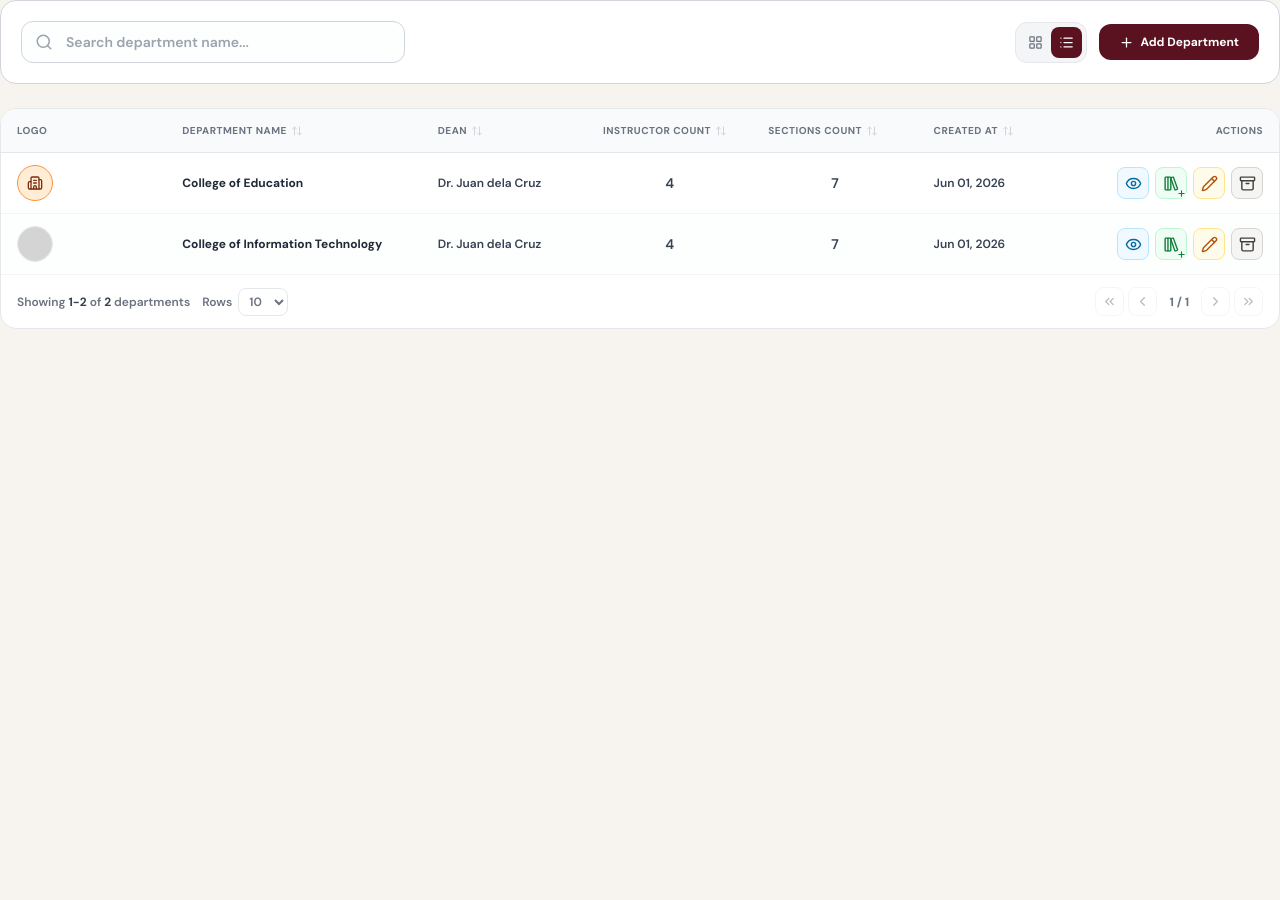
Test: Departments management takes a typed department code › blocks a code another department already uses
Click the button "Add Department". click: x=1179, y=42
box: [1099, 24, 1259, 60]
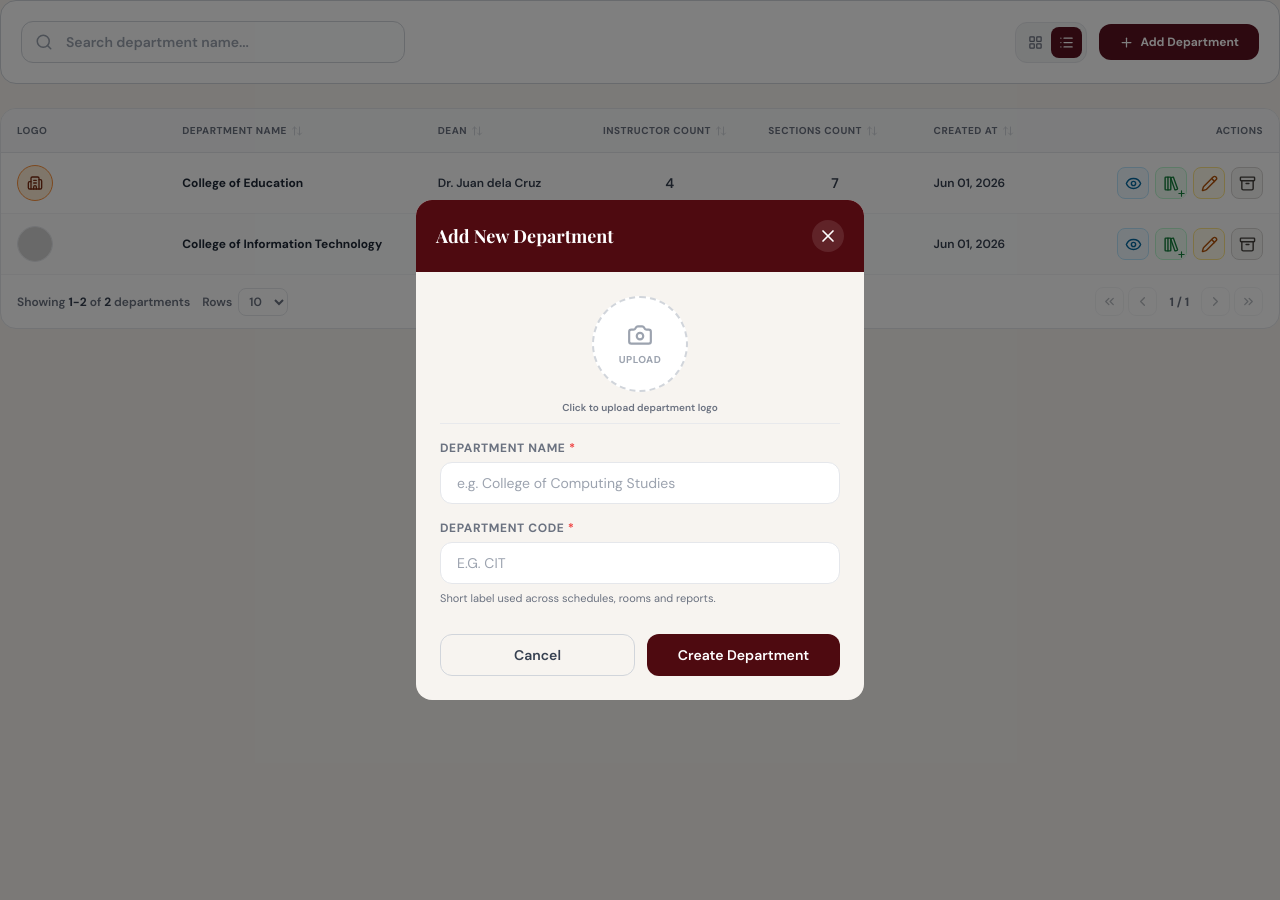
Type "College of Computing Studies" into the field with placeholder "e.g. College of Computing Studies". click: x=640, y=483
box: [440, 462, 840, 504]
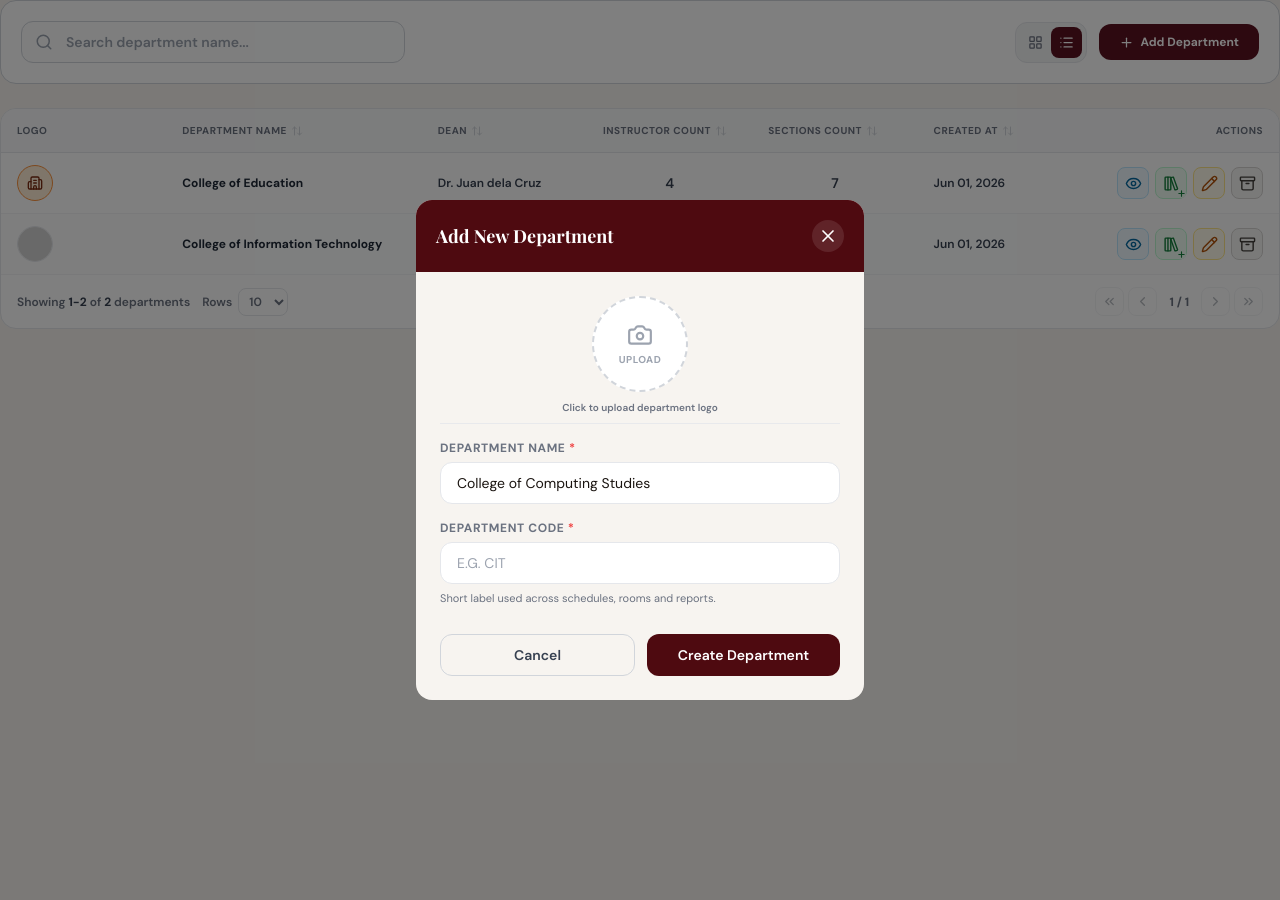
Type "CIT" into the field with placeholder "e.g. CIT". click: x=640, y=563
box: [440, 542, 840, 584]
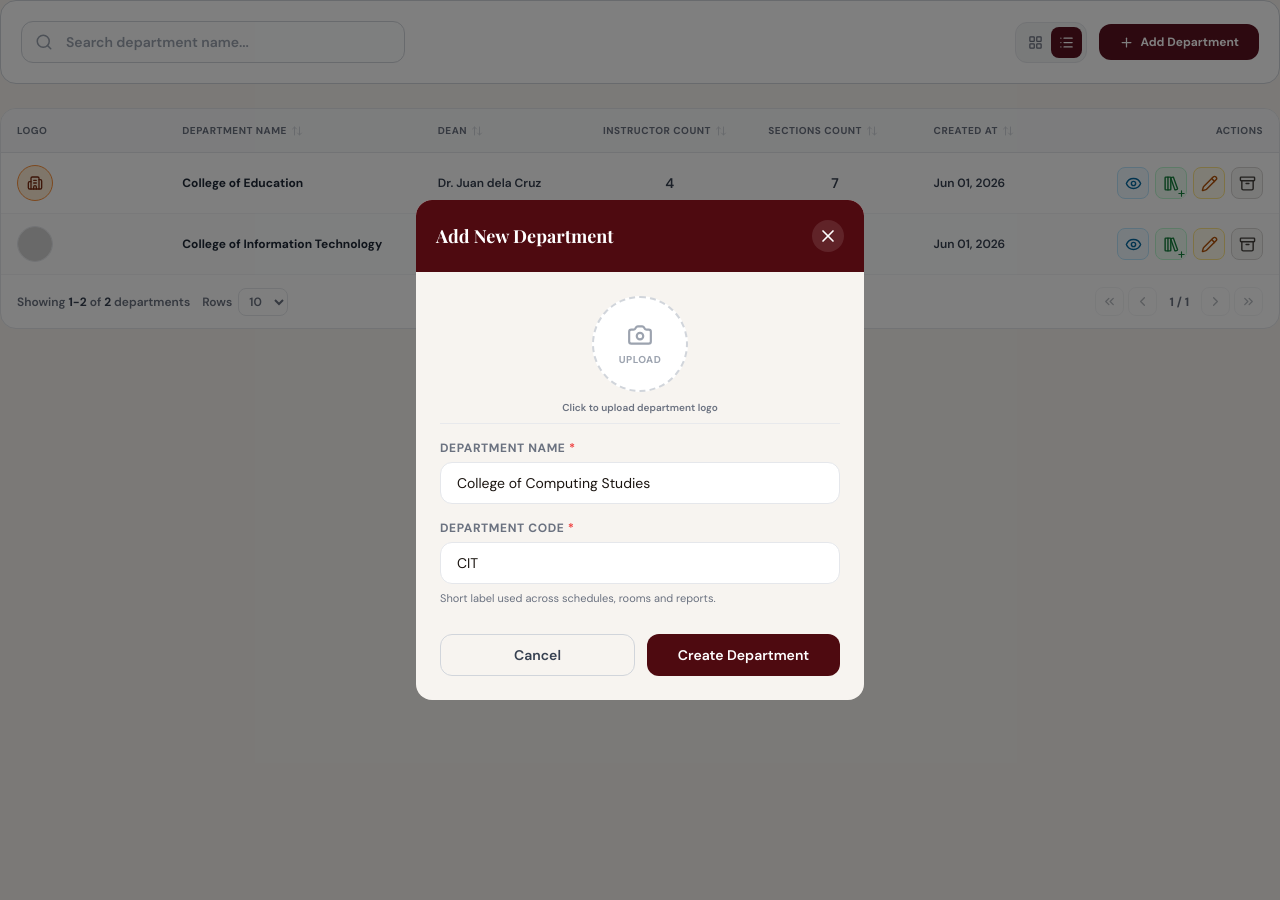
Click the button "Create Department". click: x=744, y=655
box: [647, 634, 840, 676]
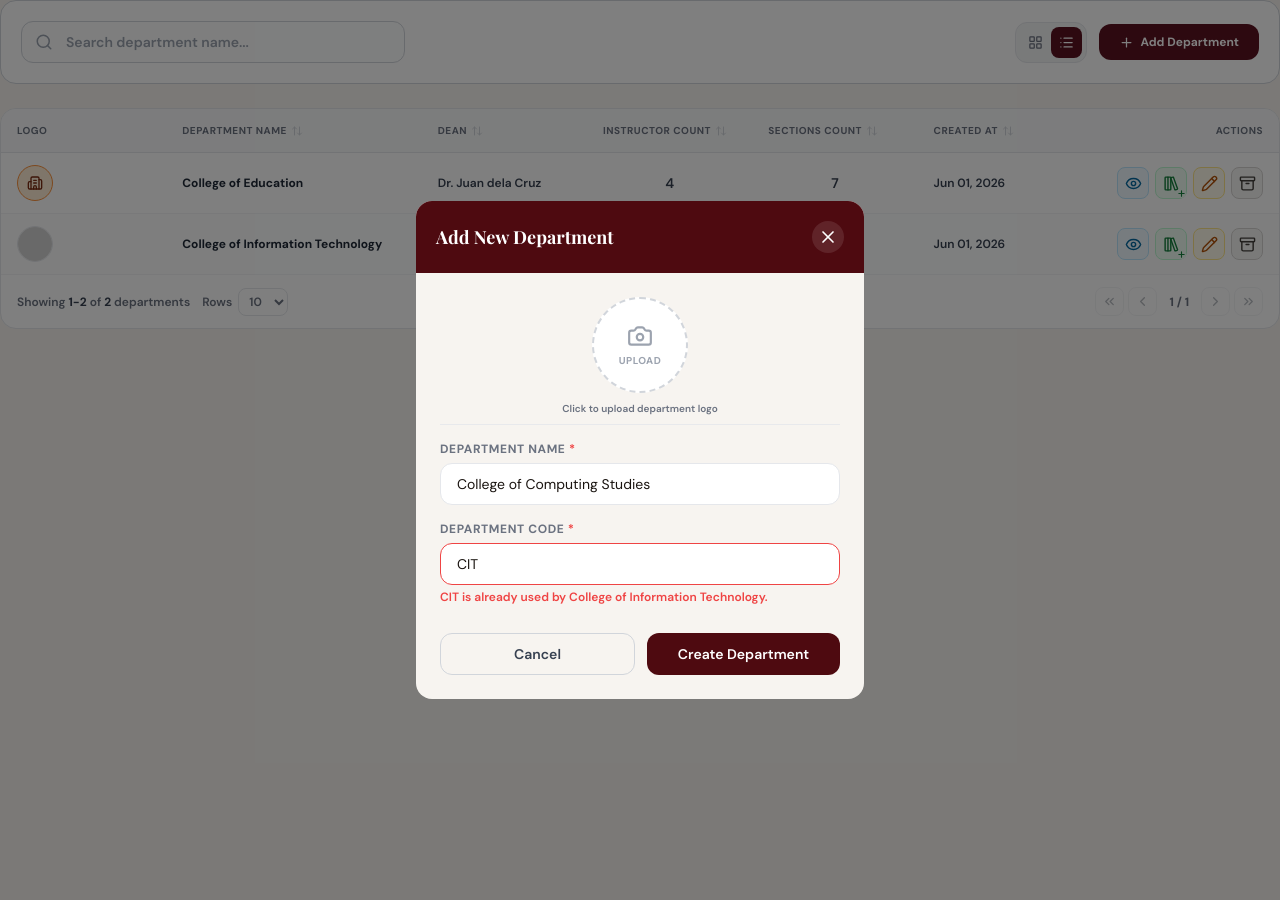
expect the text "CIT is already used by College of Information Technology." is shown: met, box [440, 589, 768, 605]
